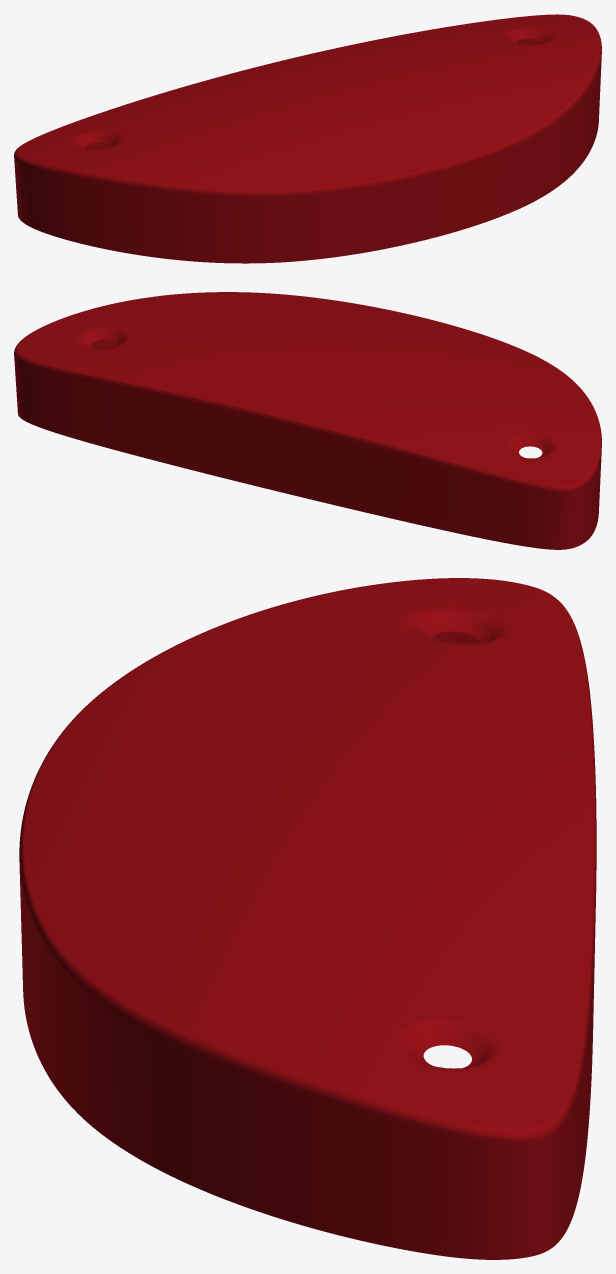
Rendered from tail-lamp-perforated-outer-lens-v3.glb.
3 views of the same model, one above another, from view 1: azimuth 30°, elevation 25°; view 2: azimuth 150°, elevation 25°; view 3: azimuth 270°, elevation 25° (orthographic). The views are drawn at different scales.
Visible parts, largest first — view 1: EXTERIOR_CHILD; view 2: EXTERIOR_CHILD; view 3: EXTERIOR_CHILD.
Part boxes in pixels (<box>): EXTERIOR_CHILD: <box>14,14,601,263</box>; EXTERIOR_CHILD: <box>14,292,601,549</box>; EXTERIOR_CHILD: <box>19,578,596,1259</box>.
Bounding box in the file's own units: 0.152 × 0.022 × 0.0669.
